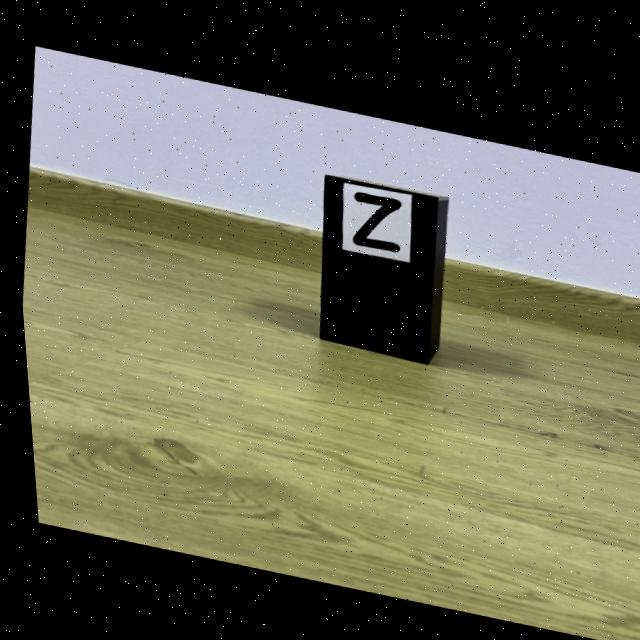Z: (350, 185, 398, 245)
